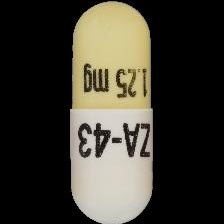68382-144: (0, 0, 224, 224)
